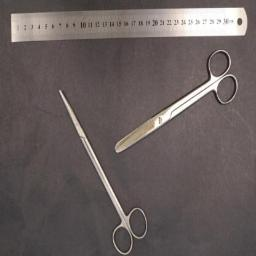Dressing Scissors: (115, 49, 239, 153)
